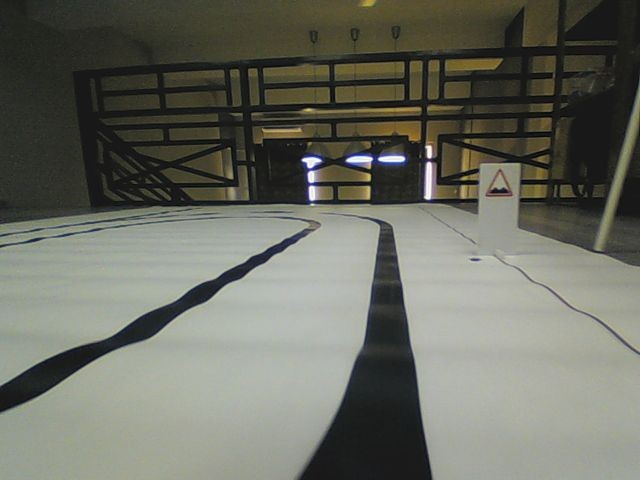Nerov: (483, 168, 514, 197)
